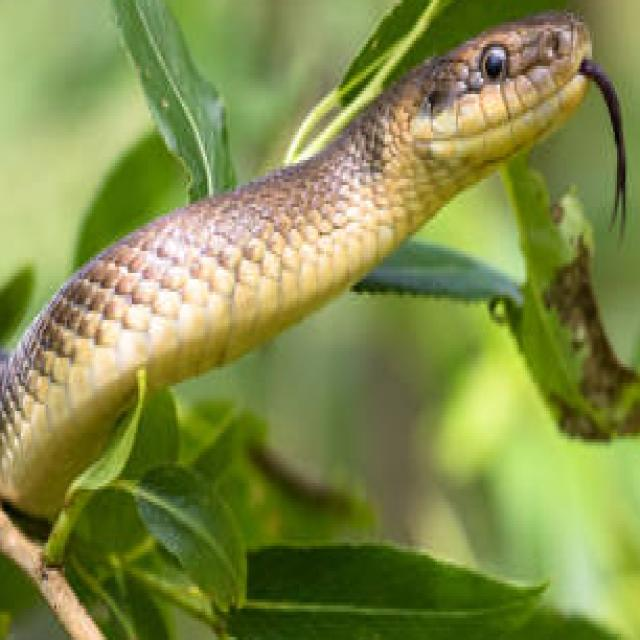snake: (0, 3, 627, 530)
